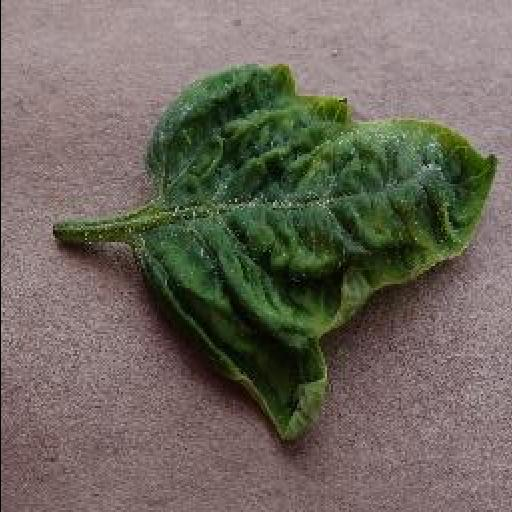disease_tomato: (124, 60, 502, 444)
